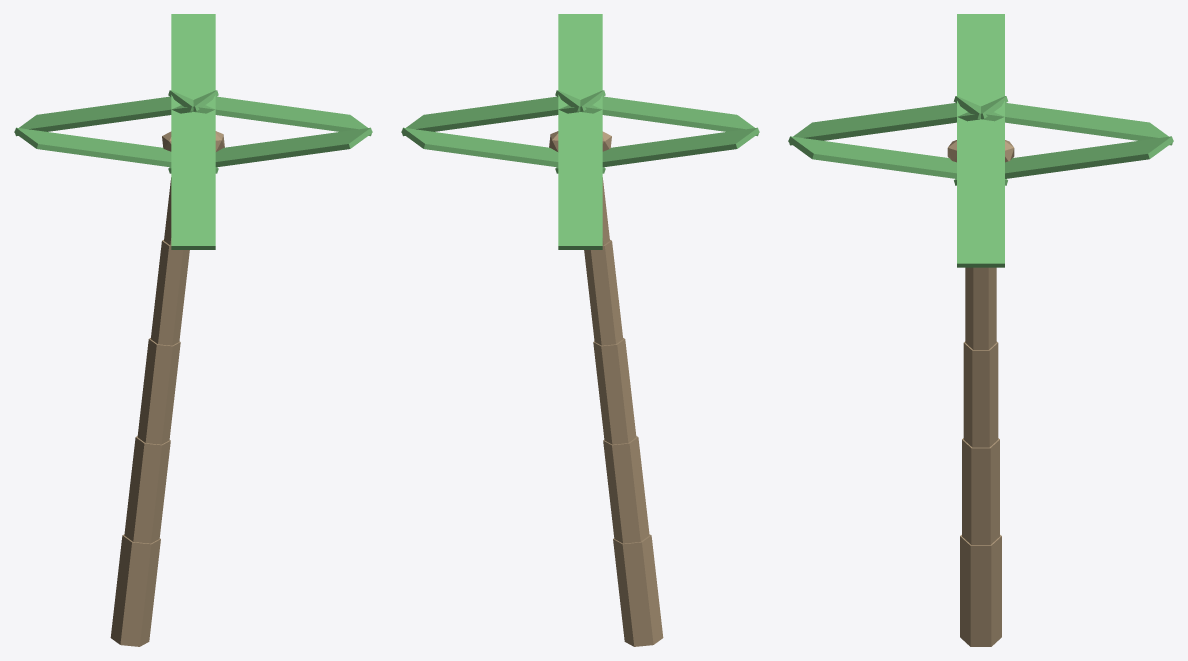
File: PalmTree.fbx
The picture shows the model from 3 angles, left to right: view 1: azimuth 30°, elevation 25°; view 2: azimuth 150°, elevation 25°; view 3: azimuth 270°, elevation 25°; orthographic projection. The views are drawn at different scales.
Parts seen in each view (by area): view 1: Body; view 2: Body; view 3: Body.
Boxes of the visible parts, x1,y1,x2,y2 form: Body: [14, 14, 372, 646]; Body: [401, 14, 759, 646]; Body: [788, 14, 1173, 646].
Size of the model in its own units: 3.5 by 5.28 by 3.23.
